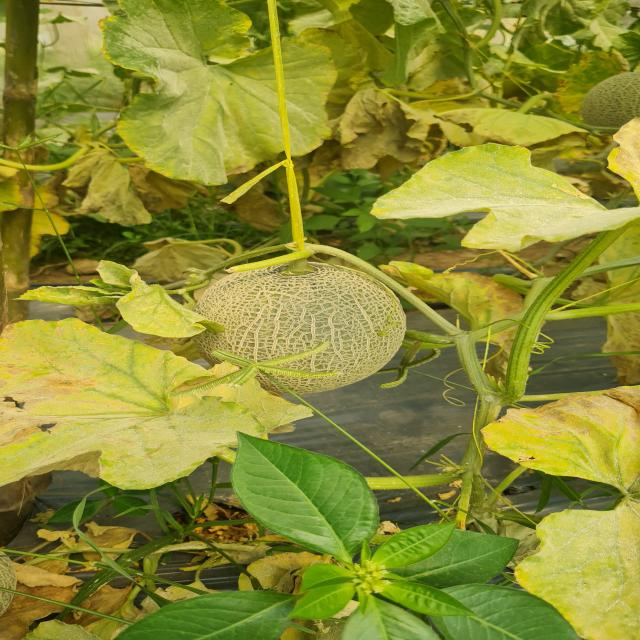melon: (193, 262, 407, 394)
